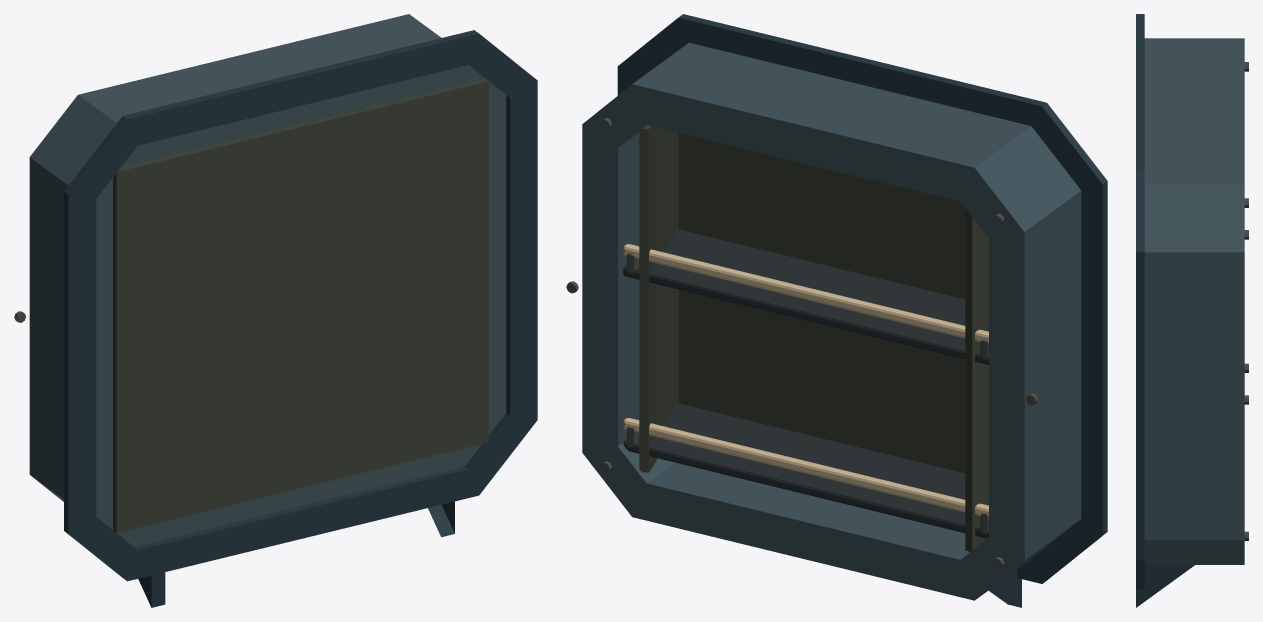
File: supply_food_niche.glb
3 views of the same model, side by side, from view 1: azimuth 30°, elevation 25°; view 2: azimuth 150°, elevation 25°; view 3: azimuth 270°, elevation 25° (orthographic). The views are drawn at different scales.
Parts seen in each view (by area): view 1: supply_food_niche; view 2: supply_food_niche; view 3: supply_food_niche.
Part boxes in pixels (x1=…): supply_food_niche: x1=14, y1=14, x2=537, y2=607; supply_food_niche: x1=566, y1=14, x2=1107, y2=607; supply_food_niche: x1=1136, y1=14, x2=1248, y2=607.
Bounding box in the file's own units: 0.68 × 0.685 × 0.156.
